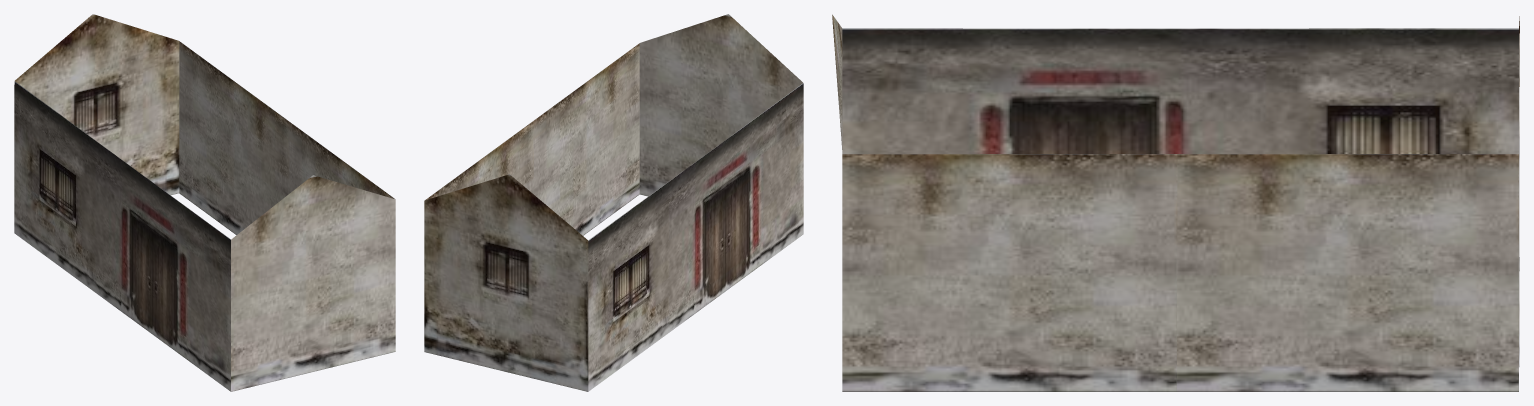
The model's file is fang01.obj.
3 views of the same model, side by side, from view 1: azimuth 30°, elevation 25°; view 2: azimuth 150°, elevation 25°; view 3: azimuth 270°, elevation 25° (orthographic). The views are drawn at different scales.
Parts seen in each view (by area): view 1: fang01; view 2: fang01; view 3: fang01.
Part boxes in pixels (x1,y1,x2,y2): fang01: [14, 14, 395, 391]; fang01: [424, 14, 803, 391]; fang01: [832, 14, 1519, 391].
Size of the model in its own units: 82.6 by 95.82 by 191.
